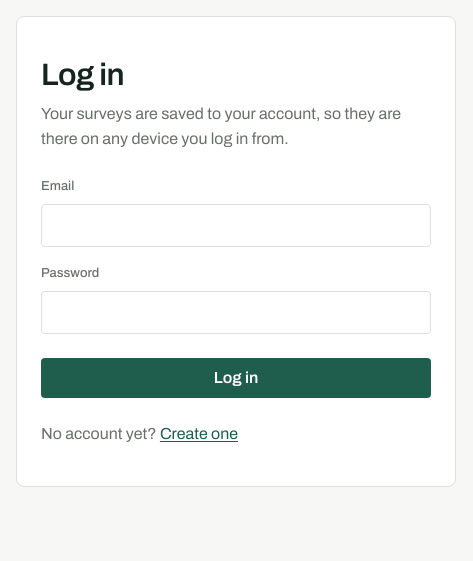
Test: the account pages › says what to fix without sending anything, and puts focus on the first field
Click the button "Log in" at (236, 378), box [41,358,431,398]
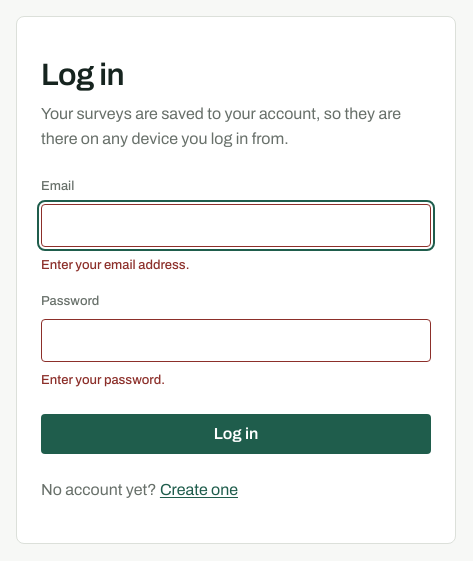
Now the text with id "error-email" reads "Enter your email address.", box [41,258,189,272]
